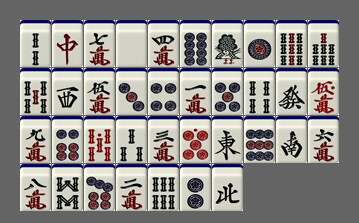0m: (308, 68, 339, 115)
0p: (180, 116, 211, 163)
0s: (84, 116, 115, 163)
1m: (180, 68, 211, 115)
1p: (244, 20, 275, 67)
1s: (212, 20, 243, 67)
1z: (212, 116, 243, 163)
2m: (116, 164, 147, 211)
2p: (180, 164, 211, 211)
2s: (20, 20, 51, 67)
2z: (276, 116, 307, 163)
3m: (148, 116, 179, 163)
3p: (116, 68, 147, 115)
3s: (116, 116, 147, 163)
3z: (52, 68, 83, 115)
4m: (148, 20, 179, 67)
4p: (148, 68, 179, 115)
4s: (244, 68, 275, 115)
4z: (212, 164, 243, 211)
5m: (84, 68, 115, 115)
5p: (212, 68, 243, 115)
5s: (20, 68, 51, 115)
5z: (116, 20, 147, 67)
6m: (308, 116, 339, 163)
6p: (52, 116, 83, 163)
6s: (148, 164, 179, 211)
6z: (276, 68, 307, 115)
7m: (84, 20, 115, 67)
7p: (84, 164, 115, 211)
7s: (308, 20, 339, 67)
7z: (52, 20, 83, 67)
8m: (20, 164, 51, 211)
8p: (180, 20, 211, 67)
8s: (52, 164, 83, 211)
9m: (20, 116, 51, 163)
9p: (244, 116, 275, 163)
9s: (276, 20, 307, 67)
